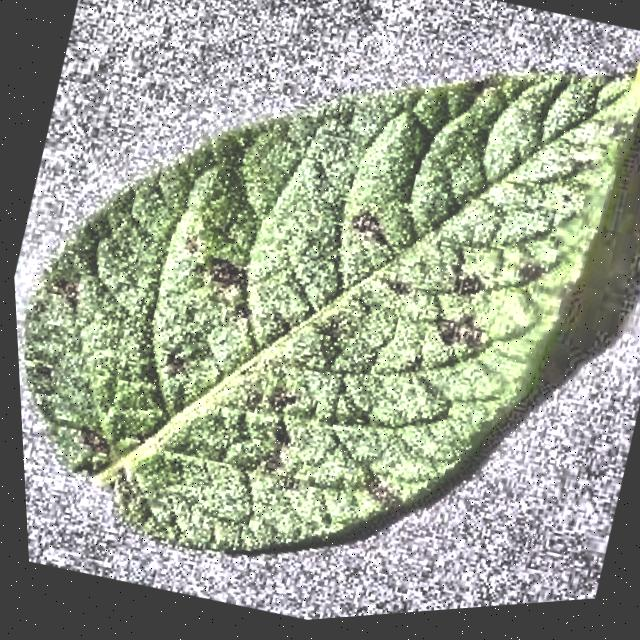Potato_leaf_early_blight: (23, 61, 640, 549)
